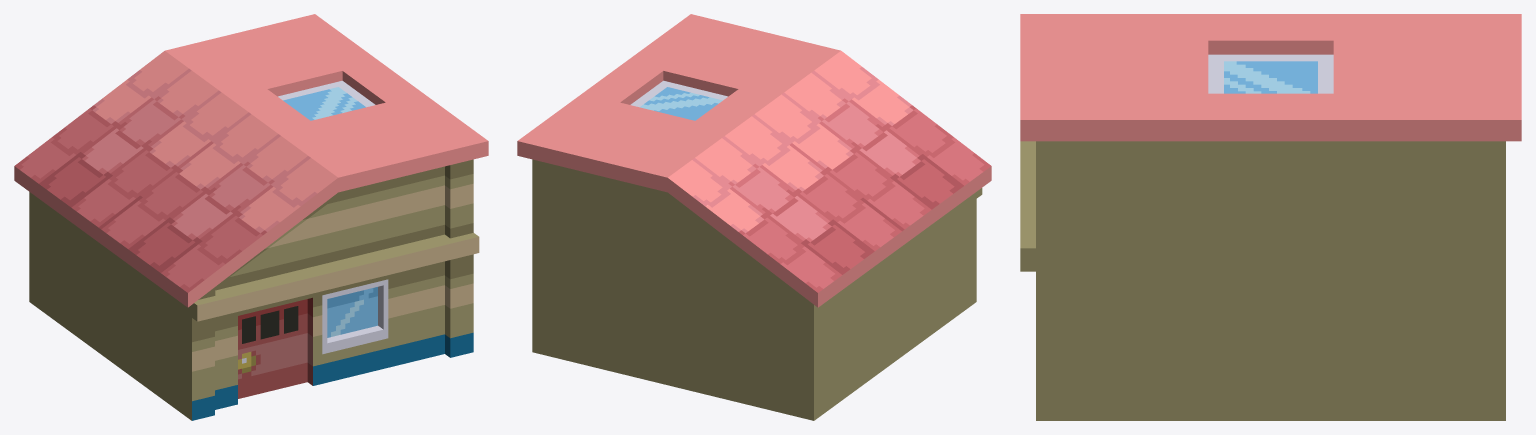
File: house1.dae
3 renders of one model, left to right at view 1: azimuth 30°, elevation 25°; view 2: azimuth 150°, elevation 25°; view 3: azimuth 270°, elevation 25°, orthographic. The views are drawn at different scales.
Parts seen in each view (by area): view 1: SketchUp (×46); view 2: SketchUp (×28); view 3: SketchUp (×6).
Boxes of the visible parts, left/top/right/bottom form: SketchUp (×46): left=14, top=14, right=488, bottom=420; SketchUp (×28): left=517, top=14, right=991, bottom=420; SketchUp (×6): left=1020, top=14, right=1521, bottom=420.
Bounding box in the file's own units: 25.2 × 25.2 × 17.05.
